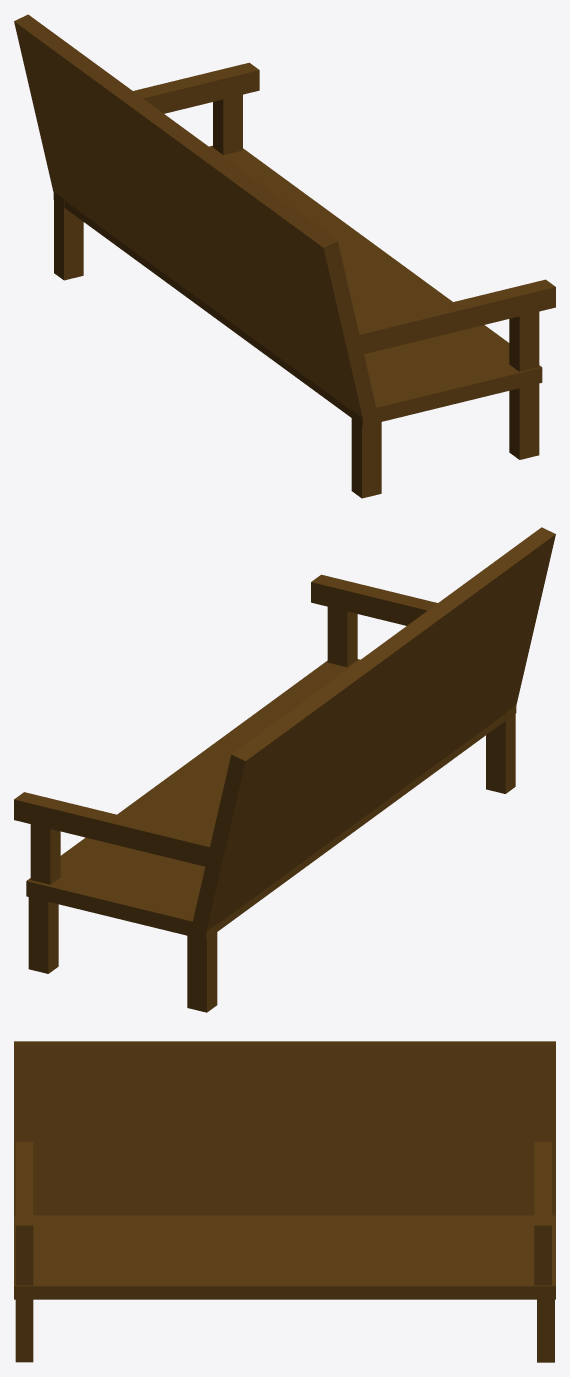
The model's file is basic bench.fbx.
The picture shows the model from 3 angles, top to bottom: view 1: azimuth 30°, elevation 25°; view 2: azimuth 150°, elevation 25°; view 3: azimuth 270°, elevation 25°; orthographic projection. The views are drawn at different scales.
Parts seen in each view (by area): view 1: pCube11; view 2: pCube11; view 3: pCube11.
Boxes of the visible parts, bbox=[...] form: pCube11: bbox=[14, 14, 555, 498]; pCube11: bbox=[14, 527, 555, 1012]; pCube11: bbox=[14, 1041, 555, 1362].
Size of the model in its own units: 1.3 by 1.41 by 2.99.
